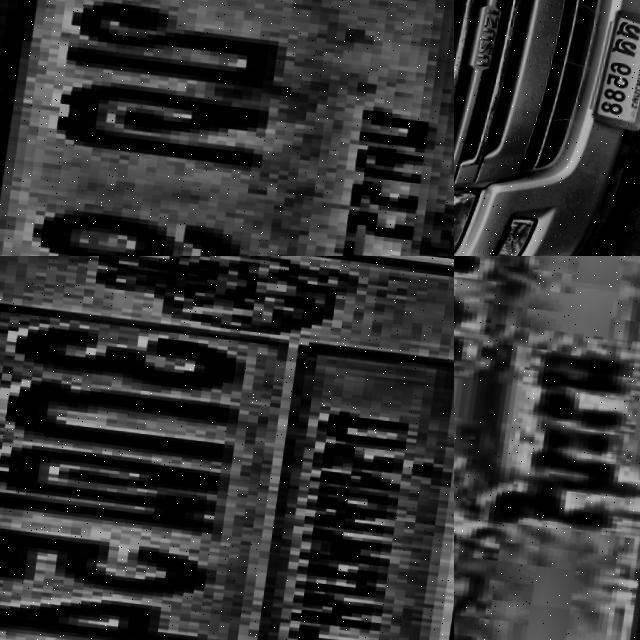license-plate: (0, 256, 454, 640), (0, 0, 454, 256), (454, 256, 640, 640), (587, 0, 640, 130)
